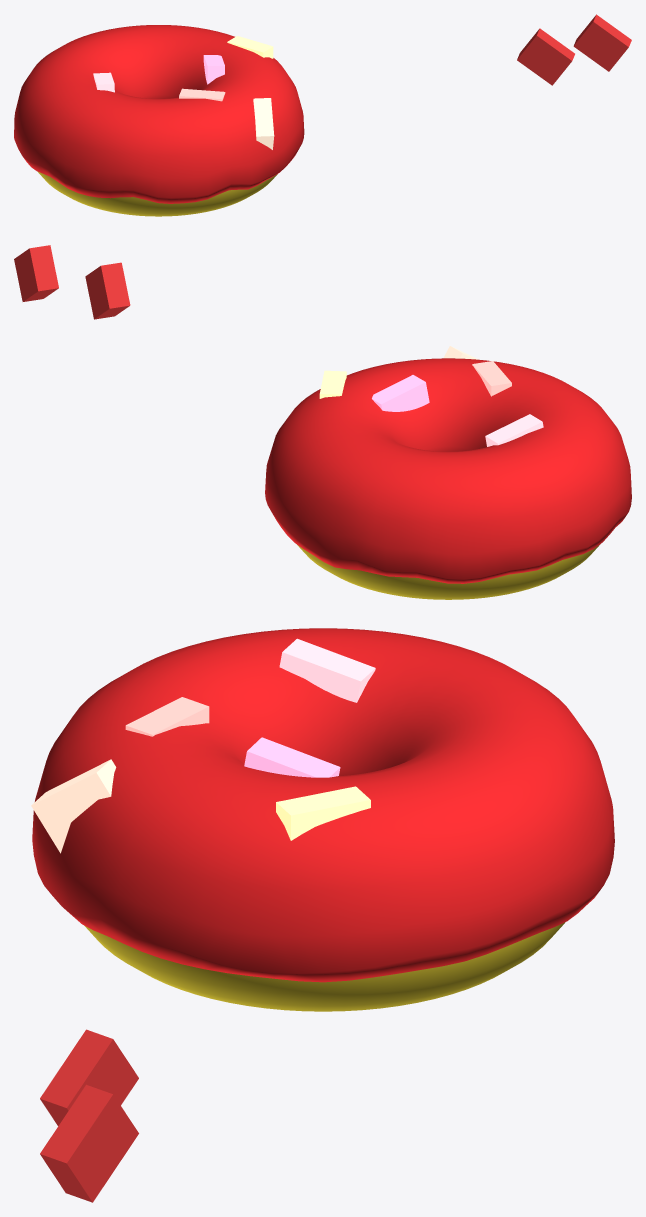
File: Sketchfab_Scene.gltf
The picture shows the model from 3 angles, top to bottom: view 1: azimuth 30°, elevation 25°; view 2: azimuth 150°, elevation 25°; view 3: azimuth 270°, elevation 25°; orthographic projection. The views are drawn at different scales.
Parts seen in each view (by area): view 1: Torus.001_3, Cube (×7), Torus_2; view 2: Torus.001_3, Cube (×6), Torus_2; view 3: Torus.001_3, Cube (×7), Torus_2.
Part boxes in pixels (left/top/right/bottom): Torus.001_3: left=14, top=25, right=304, bottom=203; Cube (×7): left=93, top=14, right=631, bottom=149; Torus_2: left=37, top=171, right=277, bottom=216; Torus.001_3: left=265, top=358, right=631, bottom=583; Cube (×6): left=14, top=245, right=543, bottom=446; Torus_2: left=297, top=544, right=600, bottom=599; Torus.001_3: left=32, top=628, right=614, bottom=982; Cube (×7): left=31, top=638, right=375, bottom=1202; Torus_2: left=84, top=922, right=565, bottom=1011.
Bounding box in the file's own units: 7.01 × 1.4 × 3.31.
